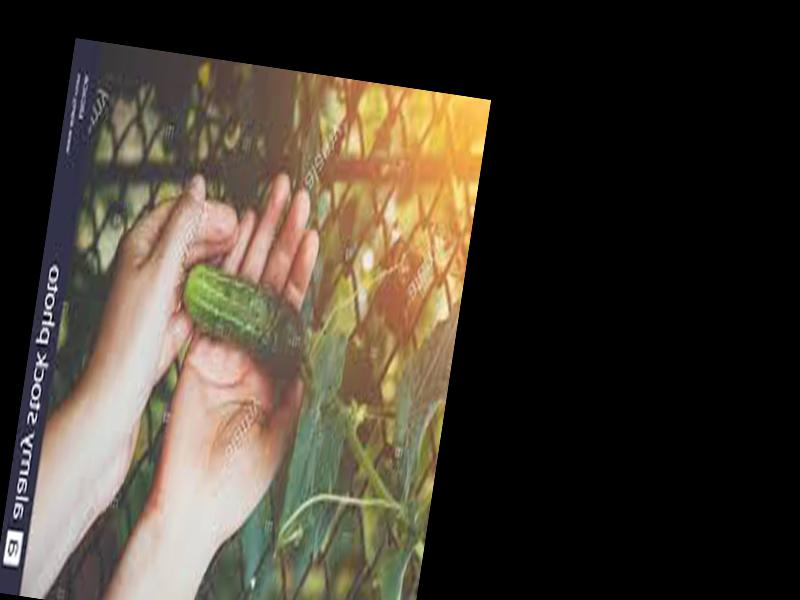Cucumber: (171, 259, 313, 378)
